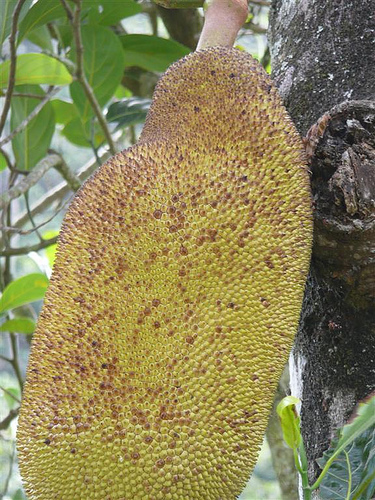jackfruit: (15, 43, 315, 498)
